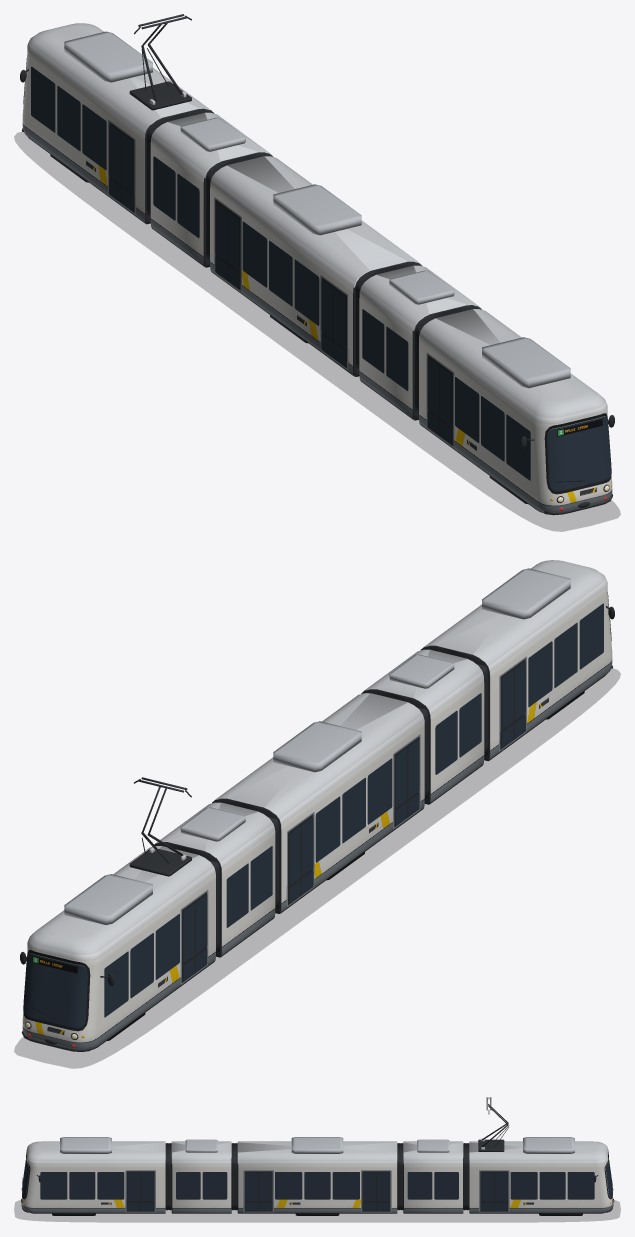
Rendered from tram.obj.
The picture shows the model from 3 angles, top to bottom: view 1: azimuth 30°, elevation 25°; view 2: azimuth 150°, elevation 25°; view 3: azimuth 270°, elevation 25°; orthographic projection. The views are drawn at different scales.
Visible parts, largest first — view 1: tram.B, tram.M, shadowpad.nocast, tram.A, tram.S1, tram.S2, tglass.ws.1.nocast, tdet.hvac.0.0, tdet.hvac.11.6, tdet.hvac.-11.6, tdet.box.5.8, tdet.box.-5.8 (+14 smaller); view 2: tram.M, tram.A, shadowpad.nocast, tram.B, tram.S2, tram.S1, tglass.ws.-1.nocast, tdet.hvac.0.0, tdet.hvac.-11.6, tdet.hvac.11.6, tdet.box.5.8, tdet.box.-5.8 (+14 smaller); view 3: tram.M, tram.B, tram.A, shadowpad.nocast, tram.S1, tram.S2, tdet.hvac.0.0, tdet.hvac.-11.6, tdet.hvac.11.6, tglass.band.1.-11.02.nocast, tglass.band.1.-13.88.nocast, tglass.band.1.-2.13.nocast (+33 smaller).
Part boxes in pixels (left/top/right/bottom): tram.B: left=419, top=309, right=612, bottom=512; tram.M: left=210, top=156, right=422, bottom=376; shadowpad.nocast: left=14, top=132, right=620, bottom=531; tram.A: left=22, top=23, right=214, bottom=224; tram.S1: left=150, top=112, right=273, bottom=267; tram.S2: left=359, top=265, right=482, bottom=420; tglass.ws.1.nocast: left=547, top=416, right=611, bottom=491; tdet.hvac.0.0: left=273, top=184, right=361, bottom=235; tdet.hvac.11.6: left=482, top=337, right=570, bottom=388; tdet.hvac.-11.6: left=64, top=31, right=152, bottom=82; tdet.box.5.8: left=389, top=270, right=454, bottom=304; tdet.box.-5.8: left=180, top=117, right=245, bottom=151; tram.M: left=212, top=693, right=424, bottom=913; tram.A: left=22, top=846, right=215, bottom=1049; shadowpad.nocast: left=14, top=669, right=620, bottom=1068; tram.B: left=420, top=560, right=612, bottom=761; tram.S2: left=361, top=649, right=484, bottom=804; tram.S1: left=154, top=802, right=275, bottom=957; tglass.ws.-1.nocast: left=23, top=953, right=87, bottom=1028; tdet.hvac.0.0: left=273, top=721, right=361, bottom=772; tdet.hvac.-11.6: left=64, top=874, right=152, bottom=924; tdet.hvac.11.6: left=482, top=568, right=570, bottom=619; tdet.box.5.8: left=389, top=654, right=454, bottom=688; tdet.box.-5.8: left=180, top=807, right=245, bottom=841; tram.M: left=237, top=1141, right=397, bottom=1213; tram.B: left=22, top=1141, right=165, bottom=1213; tram.A: left=469, top=1141, right=612, bottom=1213; shadowpad.nocast: left=14, top=1200, right=620, bottom=1222; tram.S1: left=403, top=1141, right=463, bottom=1213; tram.S2: left=171, top=1141, right=231, bottom=1213; tdet.hvac.0.0: left=291, top=1137, right=343, bottom=1153; tdet.hvac.-11.6: left=523, top=1137, right=574, bottom=1153; tdet.hvac.11.6: left=60, top=1137, right=111, bottom=1153; tglass.band.1.-11.02.nocast: left=510, top=1172, right=537, bottom=1199; tglass.band.1.-13.88.nocast: left=567, top=1172, right=594, bottom=1199; tglass.band.1.-2.13.nocast: left=332, top=1172, right=359, bottom=1199.
Size of the model in its own units: 3.1 by 5.88 by 30.4.
14 materials, 3 textured.
